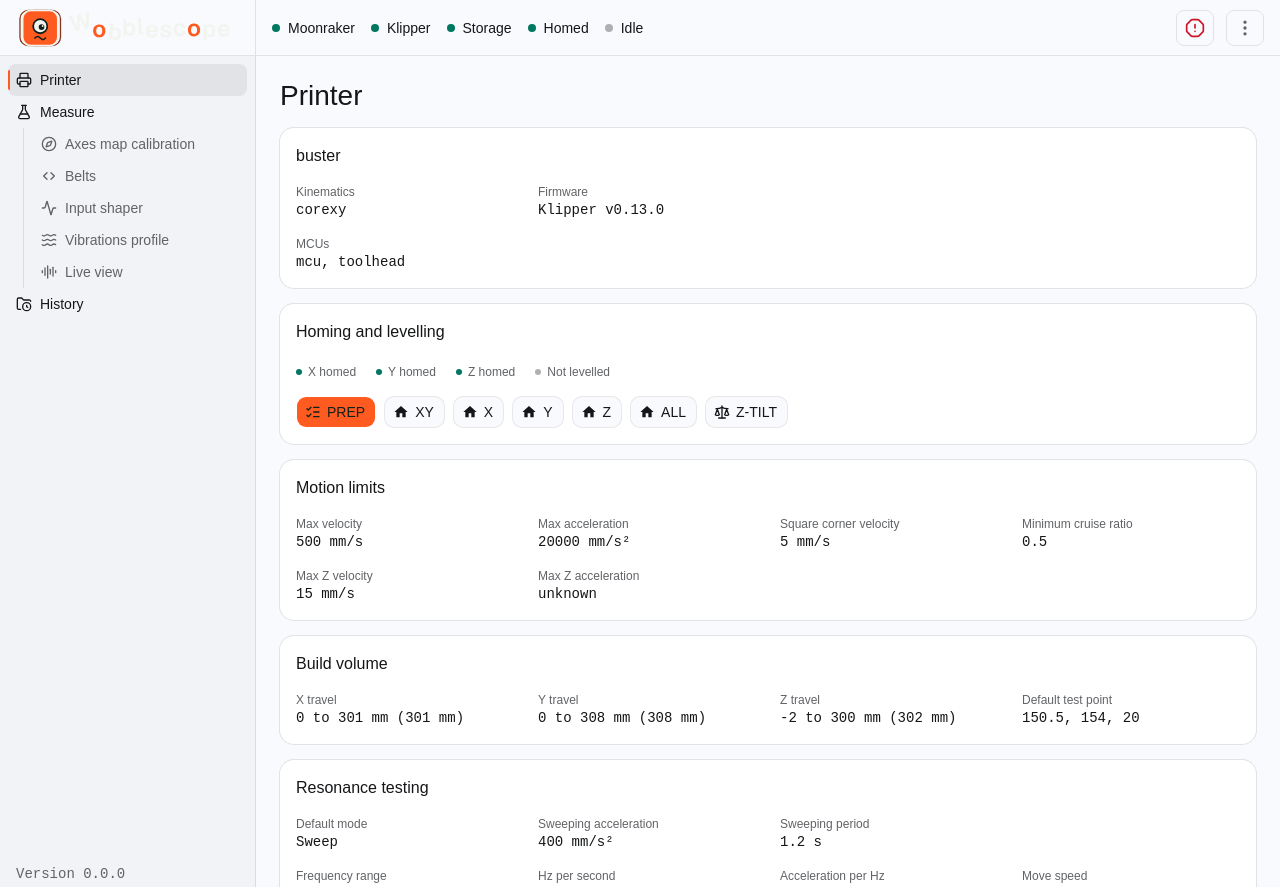
the printer card › shows the failed step and what was done as a toast when PREP fails
The image size is (1280, 887).
Step 1. Click the button with aria-label "Prepare the printer" → (336, 412), box x1=296 y1=396 x2=376 y2=428
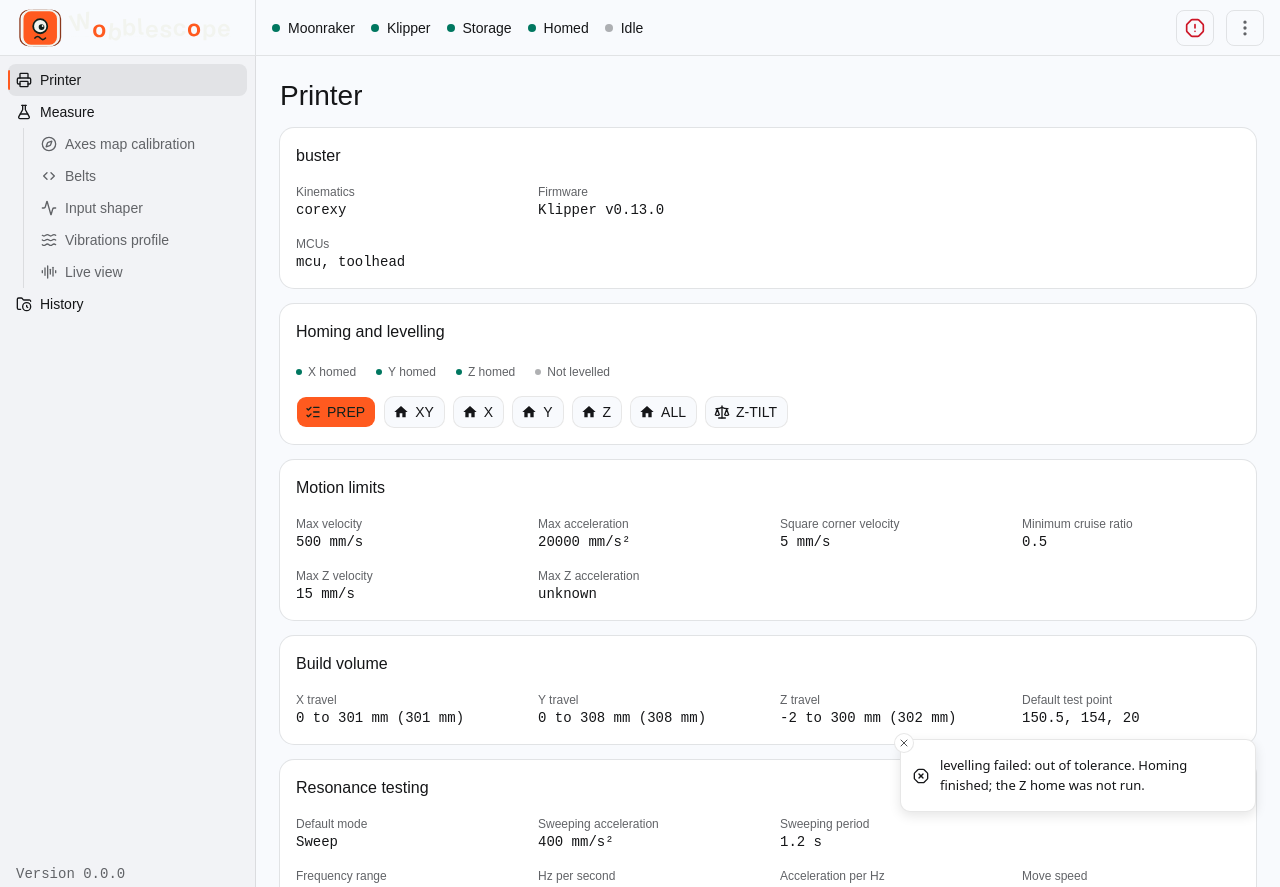
expect the text "levelling failed: out of tolerance. Homing finished; the Z home was not run." is shown: met, box x1=940 y1=756 x2=1187 y2=794
